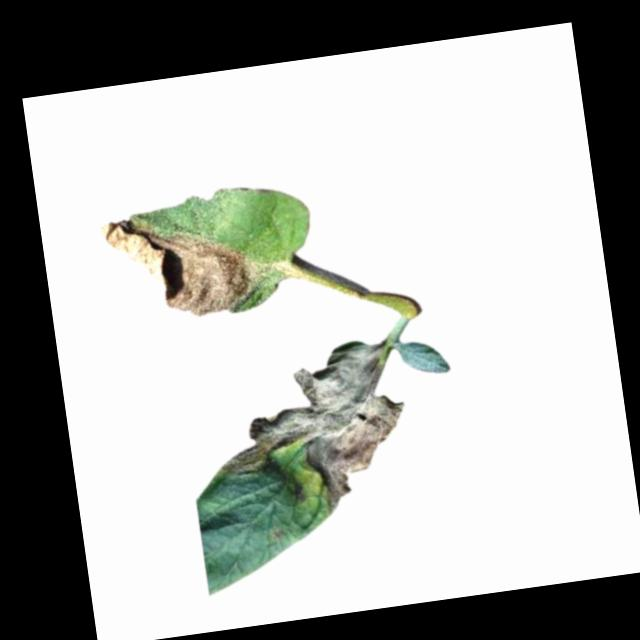Late_blight: (203, 336, 418, 529), (98, 202, 277, 330)
